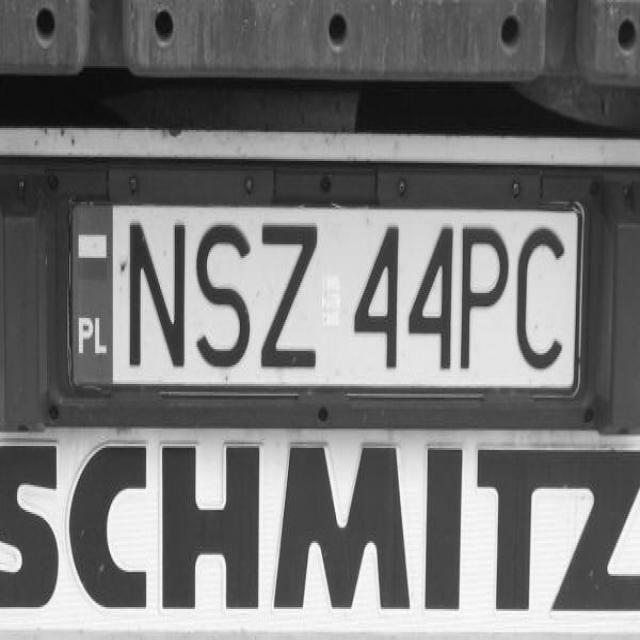License_Plate: (65, 202, 585, 390)
